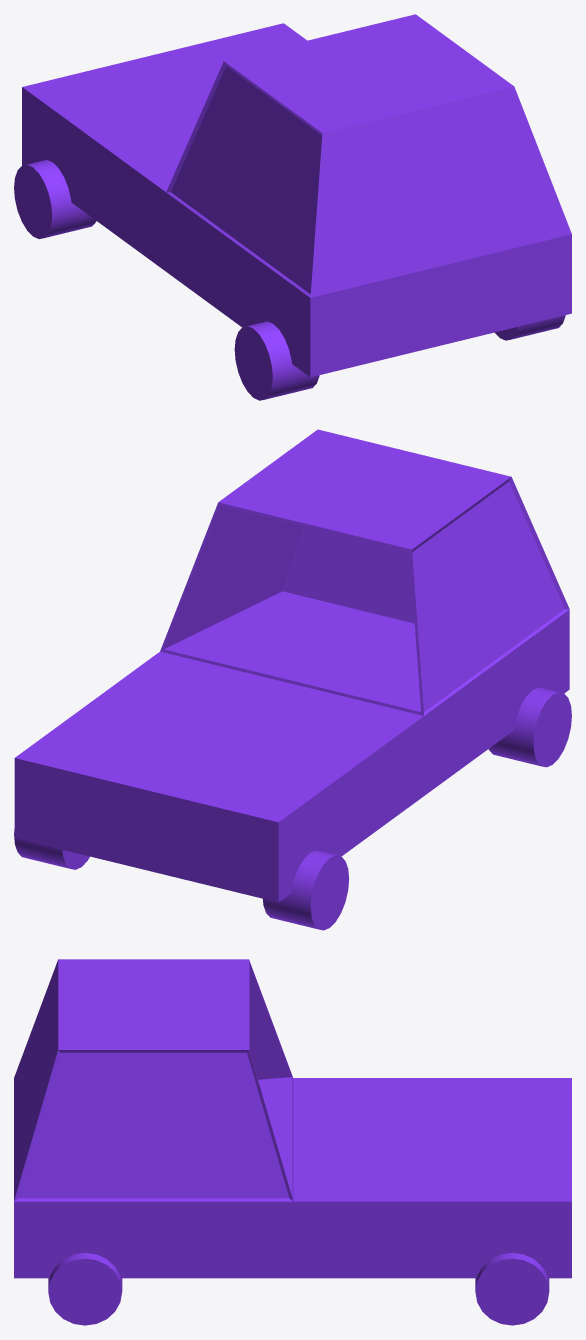
Rendered from Car.fbx.
The picture shows the model from 3 angles, top to bottom: view 1: azimuth 30°, elevation 25°; view 2: azimuth 150°, elevation 25°; view 3: azimuth 270°, elevation 25°; orthographic projection. The views are drawn at different scales.
Parts seen in each view (by area): view 1: pCylinder5; view 2: pCylinder5; view 3: pCylinder5.
Boxes of the visible parts, x1,y1,x2,y2 form: pCylinder5: [14, 14, 571, 400]; pCylinder5: [14, 429, 571, 930]; pCylinder5: [14, 959, 571, 1325].
Bounding box in the file's own units: 3.39 × 2.89 × 5.77.
